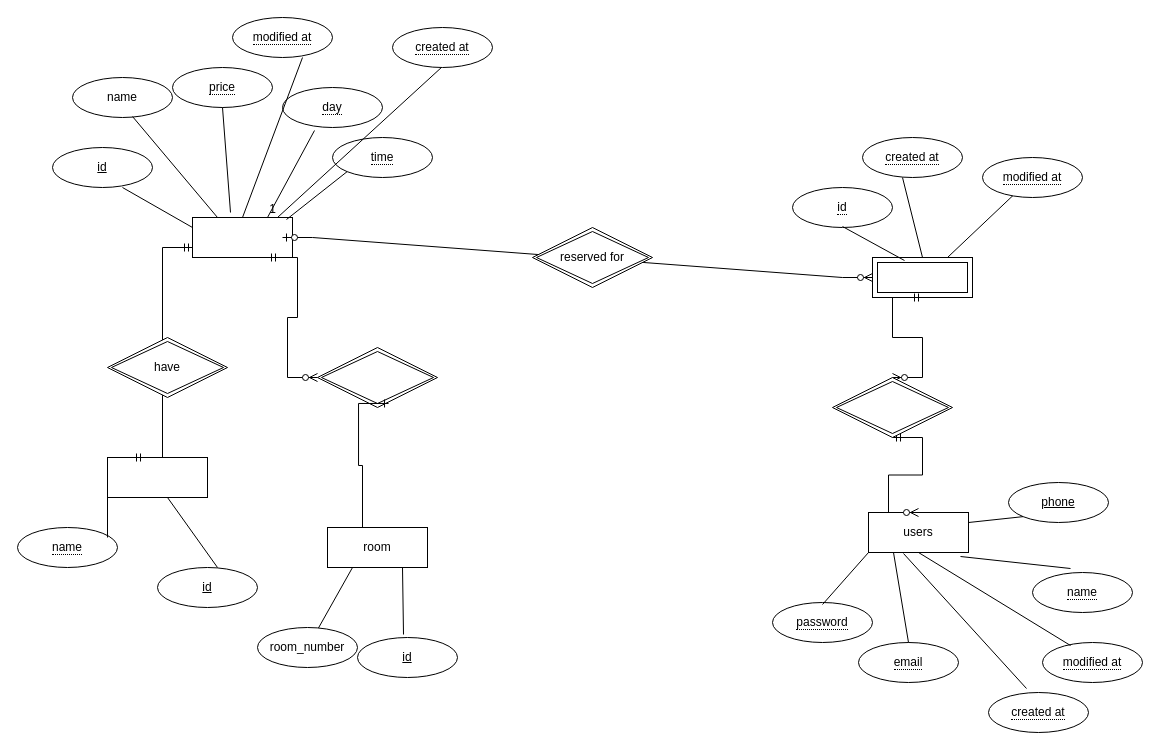
This 1160x750 diagram has some shape labels left out. Here are the shapes that lost their labels. From the top down, the centre of each, then its label:
the point at 242,237: doctor
the point at 922,277: appointments
the point at 377,377: work in
the point at 892,407: make
the point at 157,477: fields
